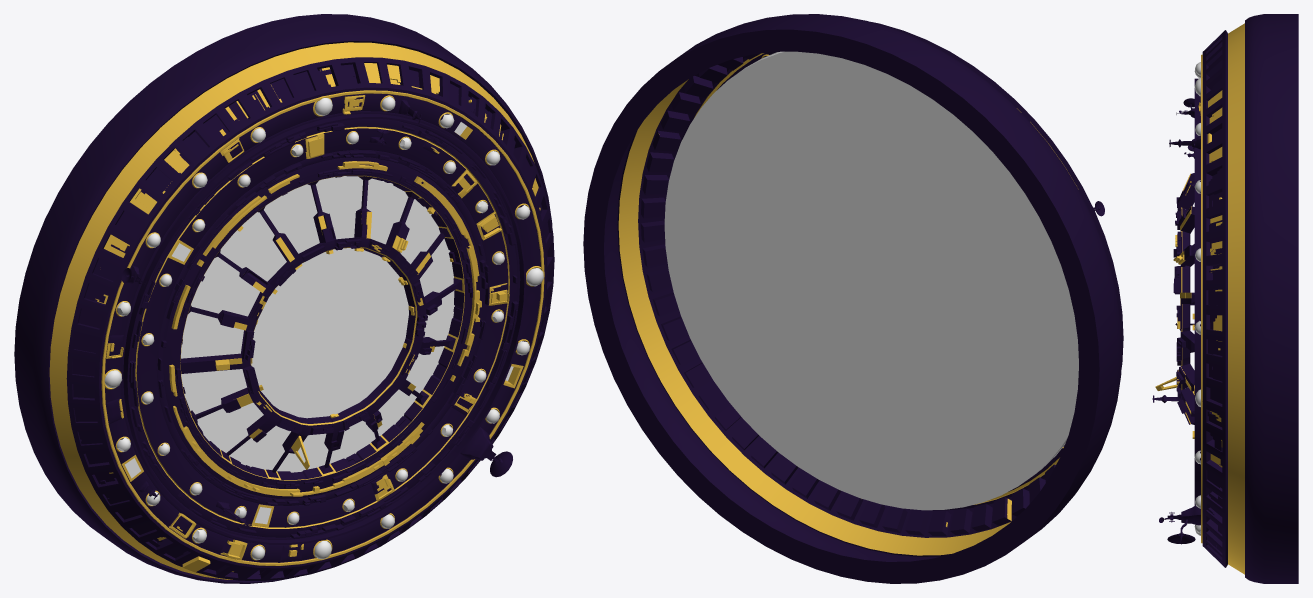
Rendered from wheel.glb.
The picture shows the model from 3 angles, left to right: view 1: azimuth 30°, elevation 25°; view 2: azimuth 150°, elevation 25°; view 3: azimuth 270°, elevation 25°; orthographic projection. The views are drawn at different scales.
Visible parts, largest first — view 1: Circle, shadow, gold, bits2, bits3, jewels2, jewels1, bits1, Sphere.001, rings; view 2: wheel, Circle, gold; view 3: Circle, gold, Sphere.001, bits2, jewels1, jewels2.
Boxes of the visible parts, box(x1,y1,x2,y2) form: Circle: box(14, 14, 554, 583); shadow: box(125, 122, 513, 524); gold: box(49, 42, 544, 579); bits2: box(106, 94, 518, 561); bits3: box(169, 161, 481, 496); jewels2: box(117, 98, 530, 559); jewels1: box(104, 96, 543, 559); bits1: box(175, 168, 473, 488); Sphere.001: box(121, 100, 512, 525); rings: box(104, 95, 541, 560); wheel: box(664, 51, 1078, 510); Circle: box(583, 14, 1123, 583); gold: box(618, 53, 1078, 555); Circle: box(1174, 14, 1298, 583); gold: box(1155, 23, 1244, 574); Sphere.001: box(1152, 98, 1200, 544); bits2: box(1173, 199, 1180, 391); jewels1: box(1195, 62, 1200, 535); jewels2: box(1194, 70, 1200, 533).
Size of the model in its own units: 4.61 by 4.61 by 1.19.
